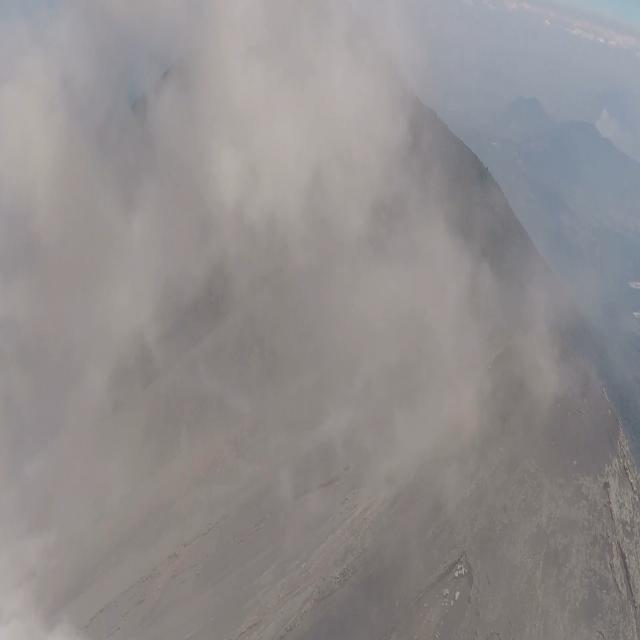Plume: (0, 0, 500, 483)
Summit: (406, 278, 640, 640)
